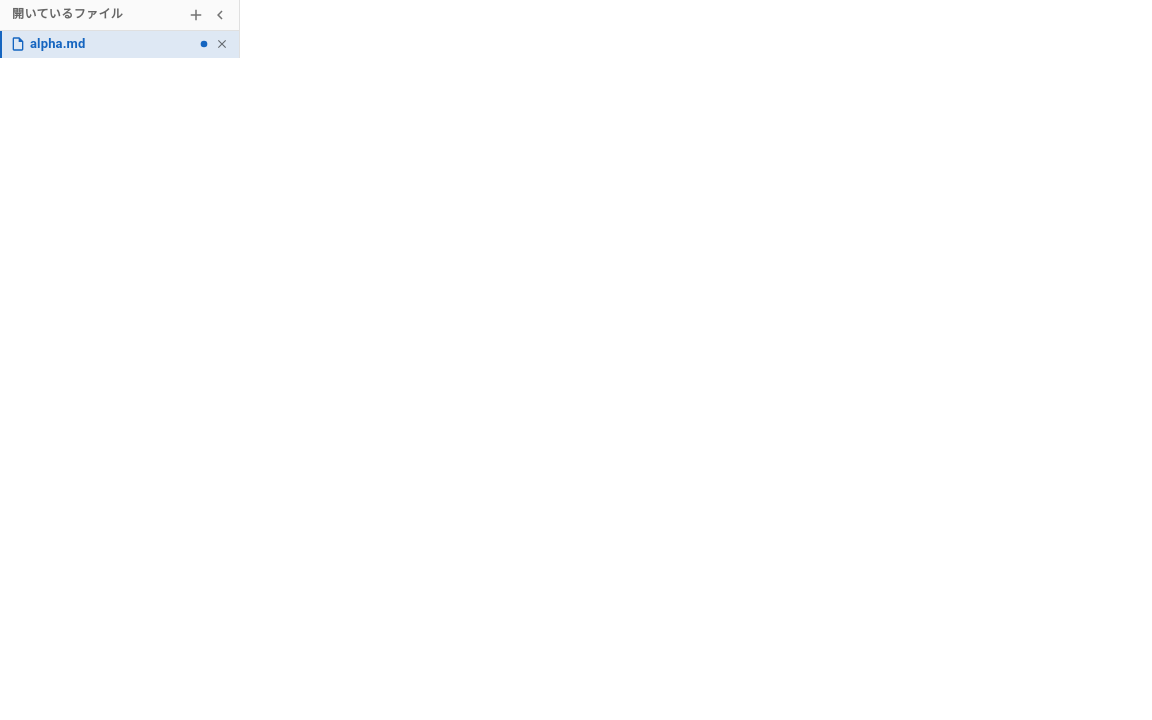
Test: Sidebar › prompts confirmation before closing a dirty file
Click the button named "close alpha.md" at (222, 44), box [213,35,231,53]
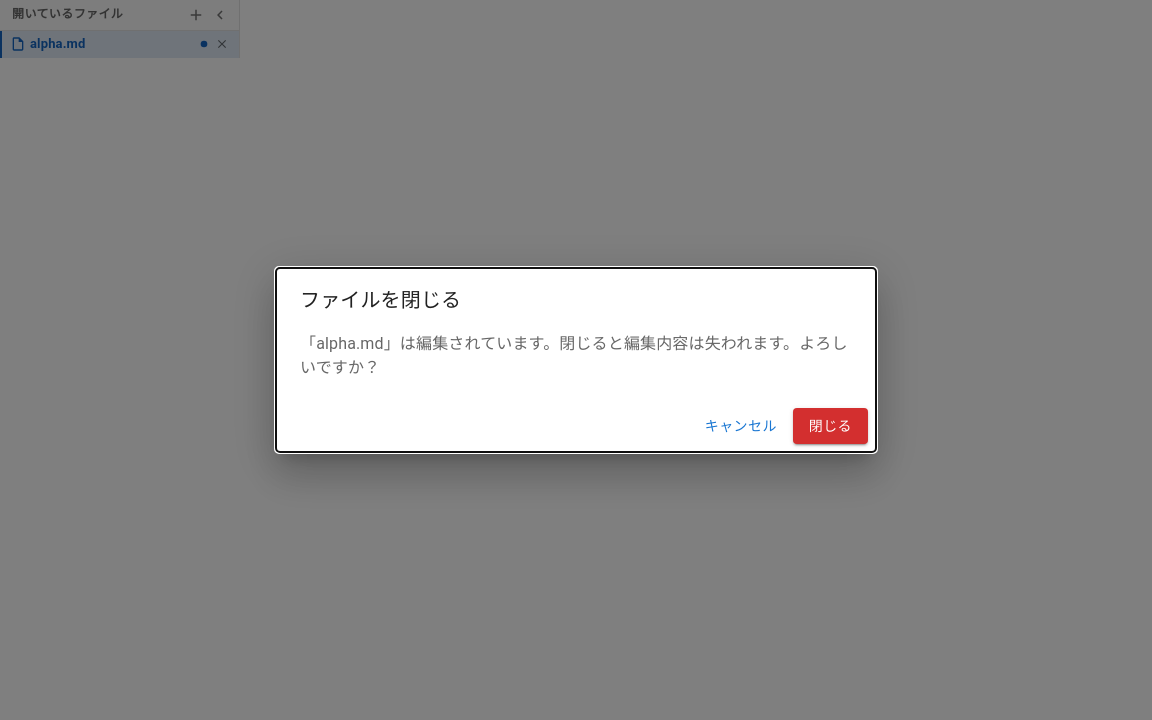
expect the text "「alpha.md」は編集されています。閉じると編集内容は失われます。よろしいですか？" is shown: met, box [300,332,852,380]
Click the button "閉じる" at (830, 426), box [793,408,868,444]
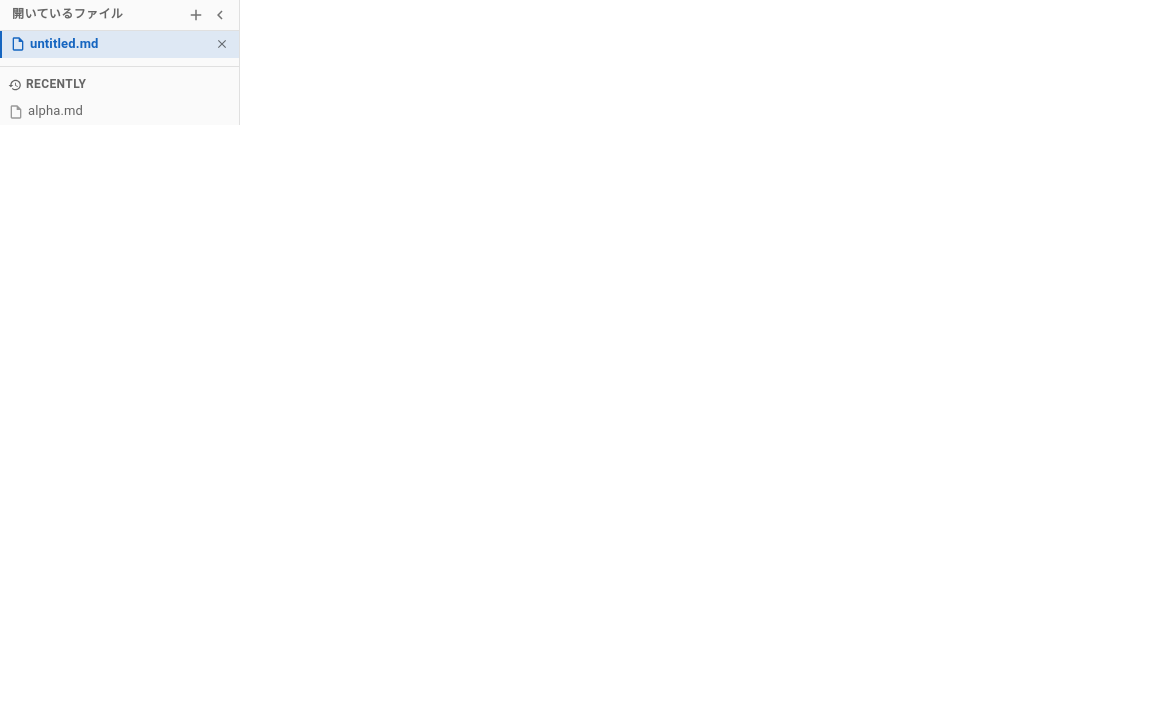
expect the text "untitled.md" is shown: met, box [30,36,98,51]
